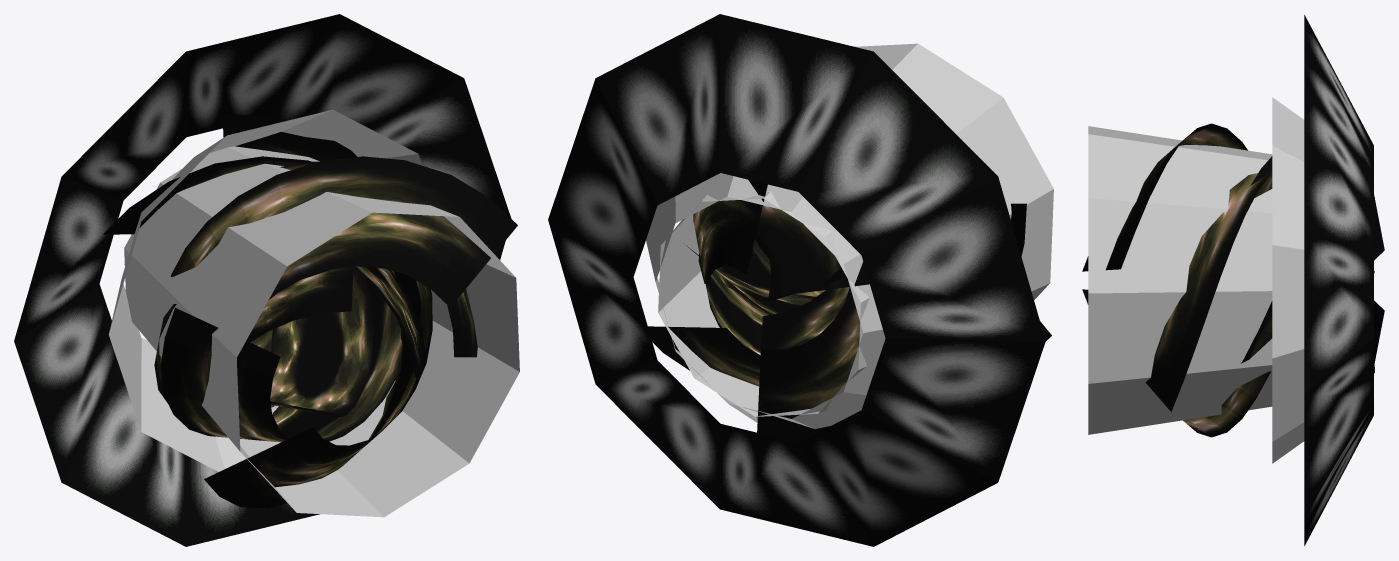
The model's file is tx_knight_shengshizishenpan_fire_01.obj.
The picture shows the model from 3 angles, left to right: view 1: azimuth 30°, elevation 25°; view 2: azimuth 150°, elevation 25°; view 3: azimuth 270°, elevation 25°; orthographic projection. The views are drawn at different scales.
Visible parts, largest first — view 1: Cylinder02, Cylinder03, Plane08, Plane09, Plane10, Cylinder01, Plane06, Plane04, Plane07, Plane01; view 2: Cylinder02, Cylinder03, Cylinder01, Plane01, Plane09, Plane10, Plane08, Plane04, Plane06, Plane07; view 3: Cylinder03, Cylinder02, Cylinder01, Plane01, Plane08, Plane10, Plane09.
Boxes of the visible parts, box(x1,y1,x2,y2) form: Cylinder02: box(14, 14, 511, 546); Cylinder03: box(124, 146, 519, 517); Plane08: box(170, 156, 517, 407); Plane09: box(160, 114, 402, 442); Plane10: box(103, 156, 432, 508); Cylinder01: box(108, 109, 422, 471); Plane06: box(270, 267, 373, 417); Plane04: box(246, 266, 353, 342); Plane07: box(354, 266, 426, 380); Plane01: box(154, 161, 477, 403); Cylinder02: box(548, 14, 1045, 546); Cylinder03: box(658, 43, 1053, 416); Cylinder01: box(646, 173, 885, 428); Plane01: box(756, 287, 860, 446); Plane09: box(693, 161, 1026, 355); Plane10: box(698, 205, 1051, 341); Plane08: box(637, 326, 760, 386); Plane04: box(758, 287, 849, 406); Plane06: box(686, 245, 815, 314); Plane07: box(755, 234, 842, 301); Cylinder03: box(1088, 126, 1272, 434); Cylinder02: box(1304, 15, 1373, 545); Cylinder01: box(1272, 97, 1304, 463); Plane01: box(1145, 173, 1384, 411); Plane08: box(1082, 123, 1383, 350); Plane10: box(1082, 156, 1272, 437); Plane09: box(1241, 142, 1384, 363).
Bounding box in the file's own units: 139 × 133 × 78.55.
